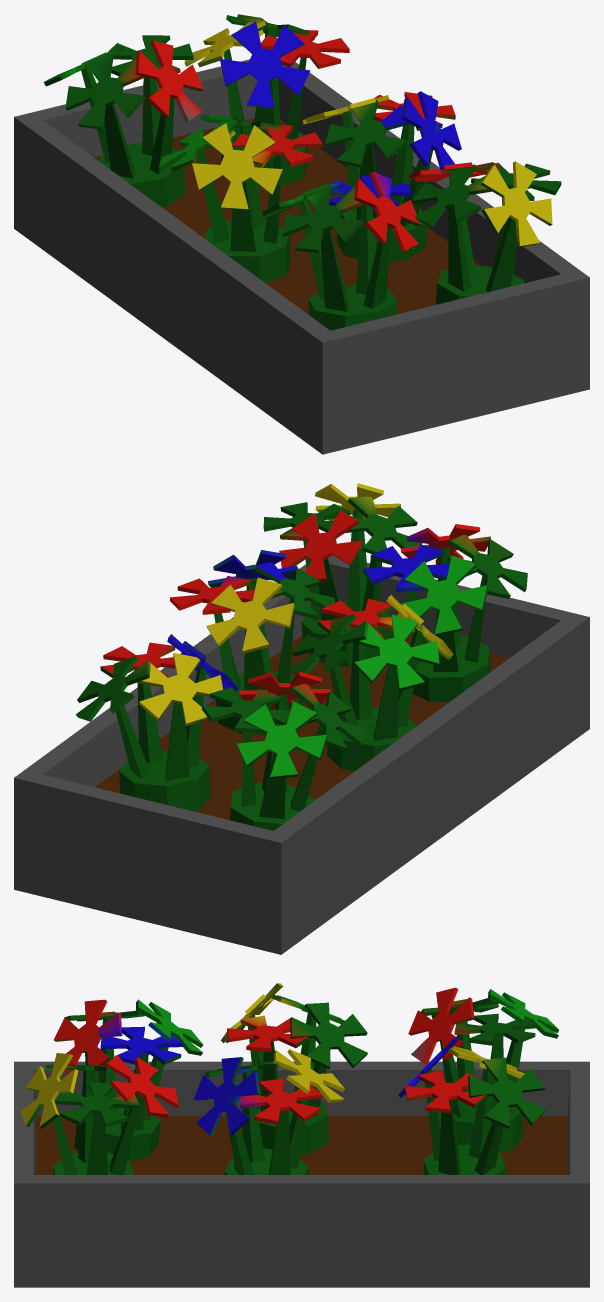
The model's file is SM_flowers.FBX.
The picture shows the model from 3 angles, top to bottom: view 1: azimuth 30°, elevation 25°; view 2: azimuth 150°, elevation 25°; view 3: azimuth 270°, elevation 25°; orthographic projection. The views are drawn at different scales.
Parts seen in each view (by area): view 1: fLOWERS; view 2: fLOWERS; view 3: fLOWERS.
Boxes of the visible parts, x1=… form: fLOWERS: x1=14, y1=14, x2=589, y2=454; fLOWERS: x1=14, y1=483, x2=589, y2=954; fLOWERS: x1=14, y1=983, x2=589, y2=1287.
Size of the model in its own units: 107 by 78.65 by 200.
